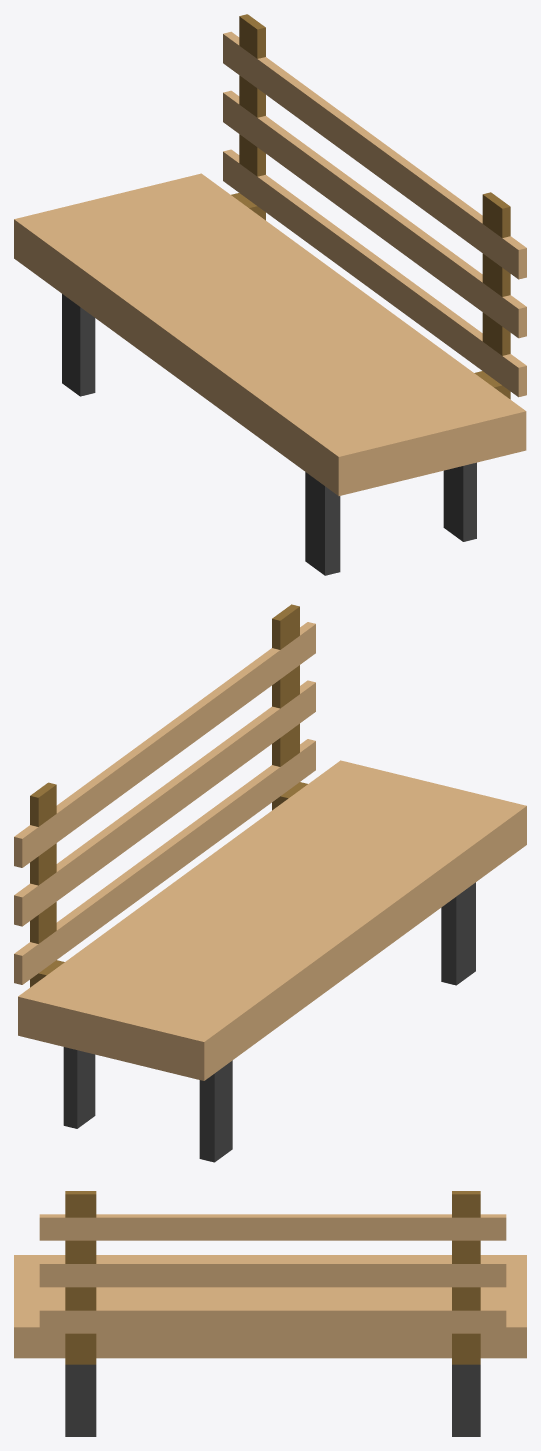
The model's file is Bench 2 (No Texture).fbx.
3 views of the same model, one above another, from view 1: azimuth 30°, elevation 25°; view 2: azimuth 150°, elevation 25°; view 3: azimuth 270°, elevation 25° (orthographic). The views are drawn at different scales.
Parts seen in each view (by area): view 1: Cube; view 2: Cube; view 3: Cube.
Part boxes in pixels (<box>): Cube: <box>14,14,526,575</box>; Cube: <box>14,604,526,1162</box>; Cube: <box>14,1191,526,1436</box>.
Bounding box in the file's own units: 218 × 330 × 600.
